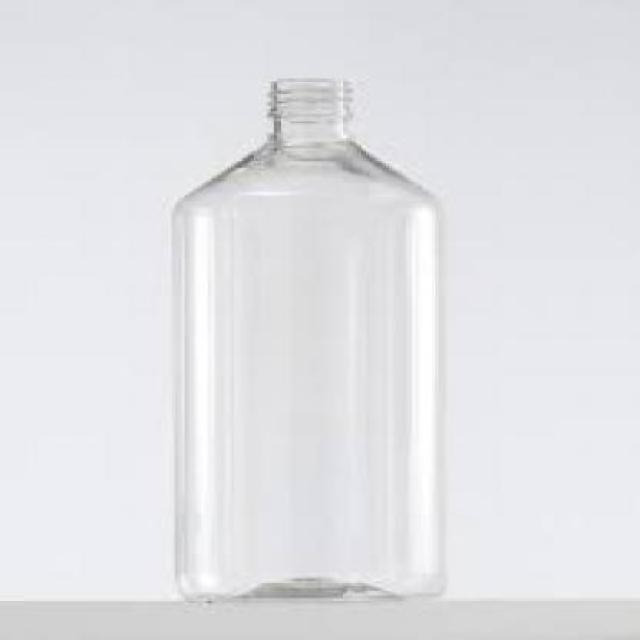kaca: (172, 77, 443, 595)
